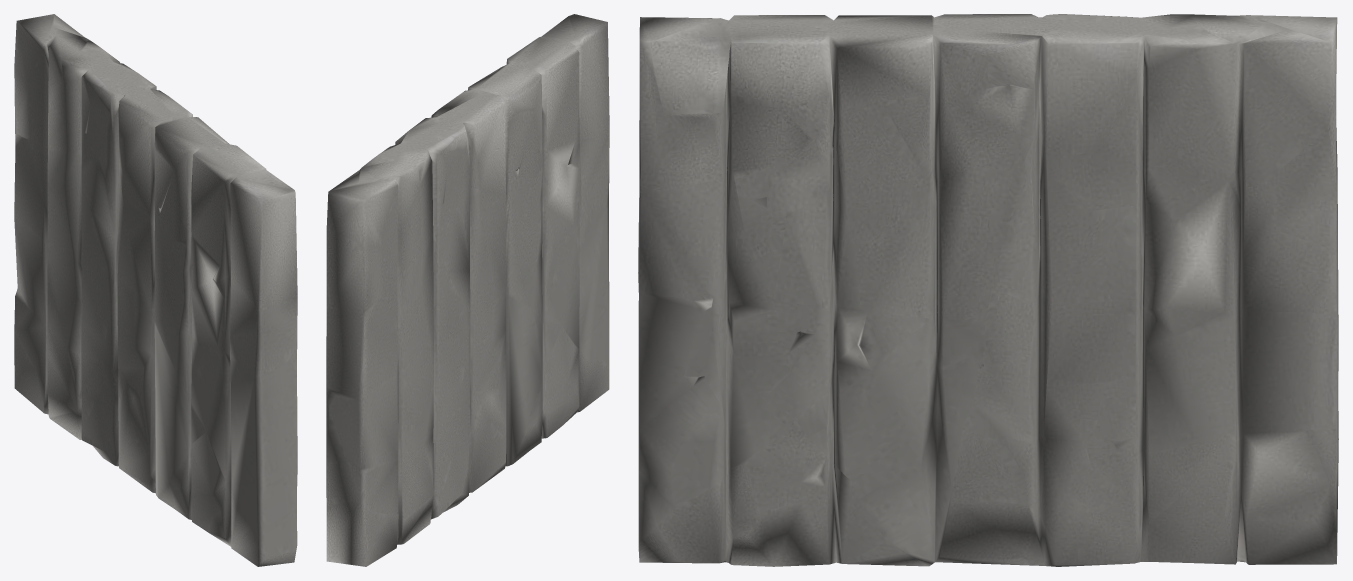
File: pnl_flute_lod1.glb
The picture shows the model from 3 angles, left to right: view 1: azimuth 30°, elevation 25°; view 2: azimuth 150°, elevation 25°; view 3: azimuth 270°, elevation 25°; orthographic projection. The views are drawn at different scales.
Visible parts, largest first — view 1: tripo_node_c2f444a6-4292-4854-b261-eb6ce3268616; view 2: tripo_node_c2f444a6-4292-4854-b261-eb6ce3268616; view 3: tripo_node_c2f444a6-4292-4854-b261-eb6ce3268616.
Boxes of the visible parts, x1,y1,x2,y2 form: tripo_node_c2f444a6-4292-4854-b261-eb6ce3268616: (14,14,297,566); tripo_node_c2f444a6-4292-4854-b261-eb6ce3268616: (326,14,609,566); tripo_node_c2f444a6-4292-4854-b261-eb6ce3268616: (638,14,1338,566).
Bounding box in the file's own units: 0.1672 × 1.2 × 1.44.
Materials: 1 (1 with a texture image).
